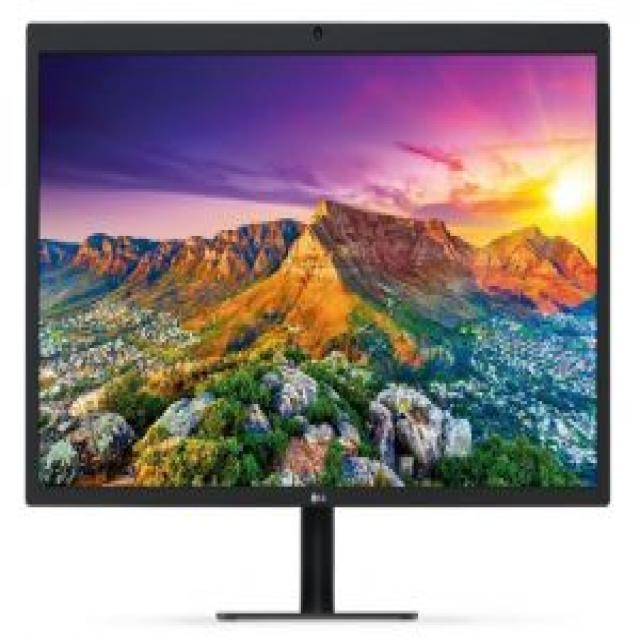monitor: (20, 16, 615, 627)
